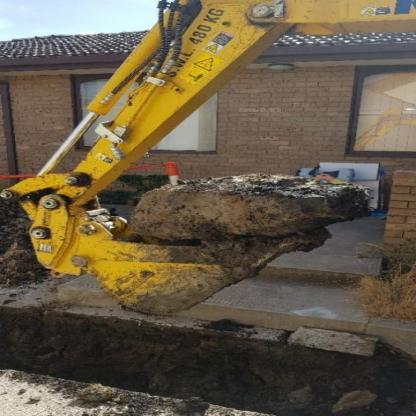excavator: (3, 0, 415, 323)
